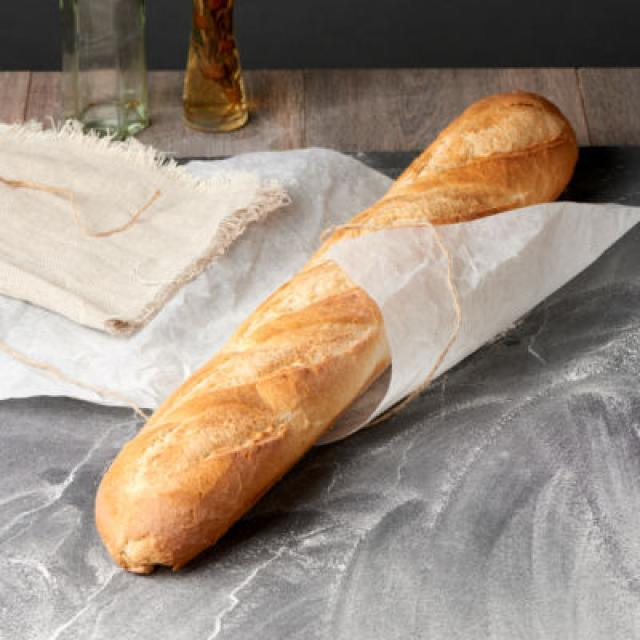Baguette: (96, 93, 581, 574)
